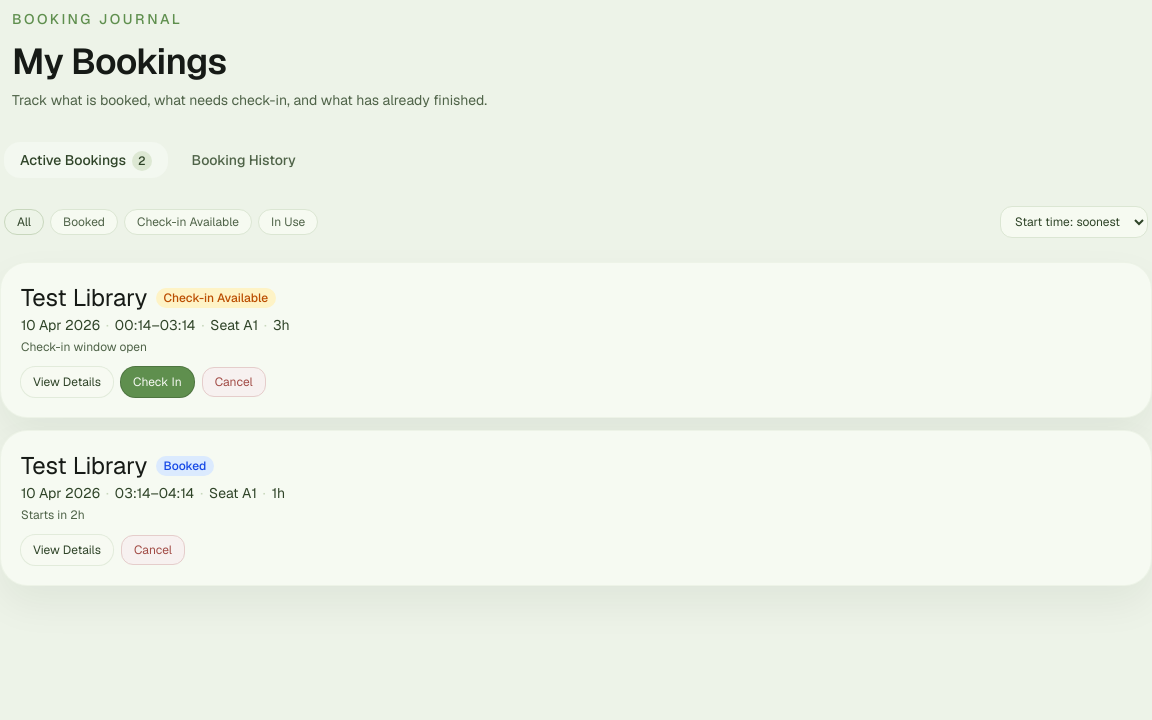
Test: BookingsPage › status filter hides cards that do not match
Expected: the button "Booking History" is shown, x1=176 y1=142 x2=312 y2=178
Click the "Booked" filter pill — Check-in Available card should disappear
Click the button "Booked": x=84, y=222 x1=50 y1=209 x2=118 y2=235
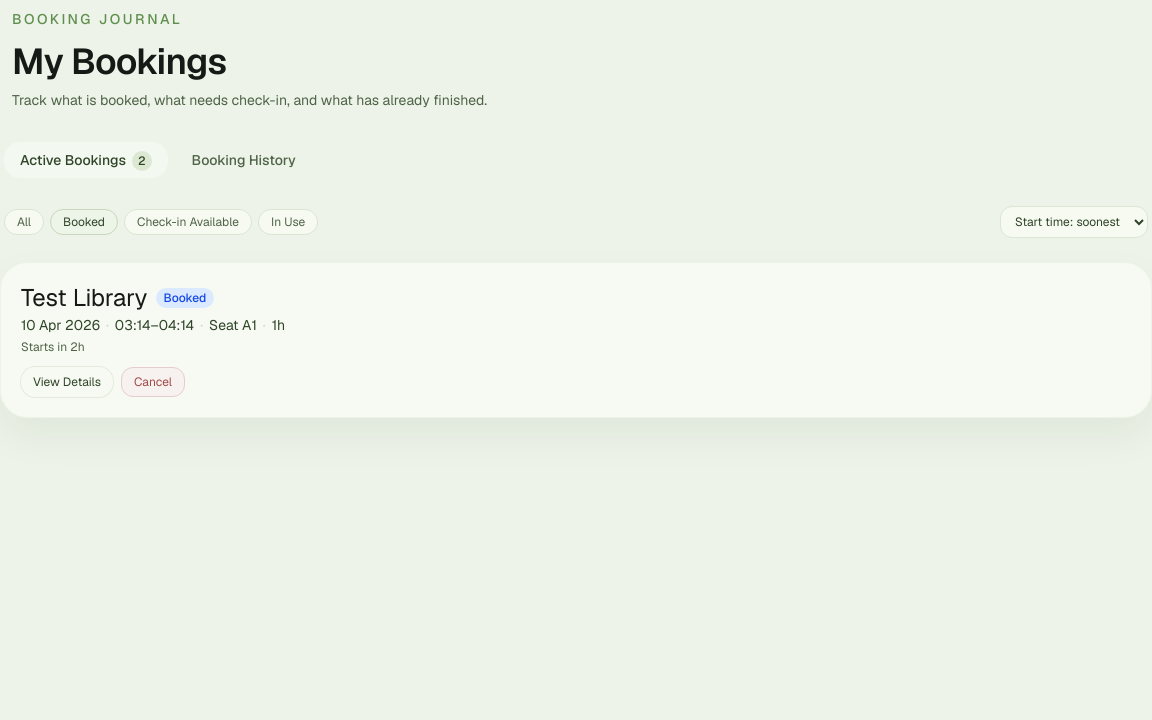
Expected: the text "Starts in 2h" is shown, x1=21 y1=339 x2=85 y2=355
Now the text "Check-in window open" is gone
